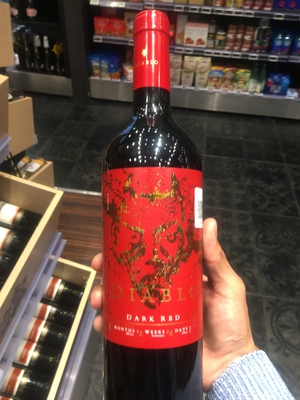diablo dark red: (92, 21, 210, 392)
